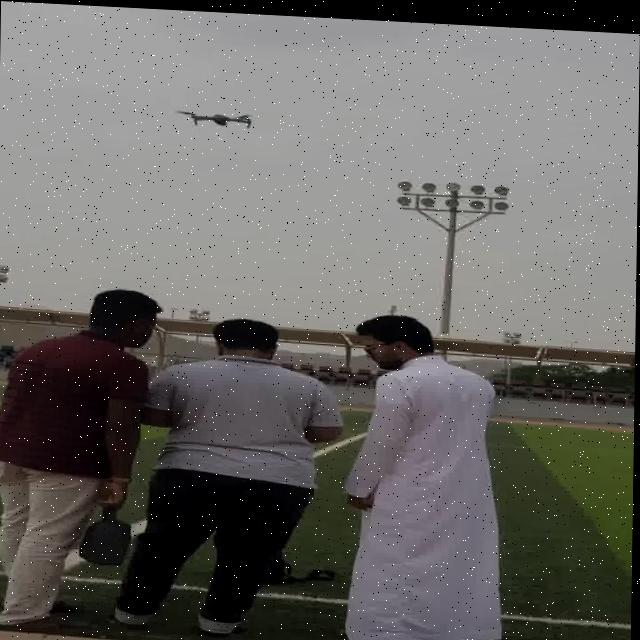drone: (173, 101, 260, 127)
